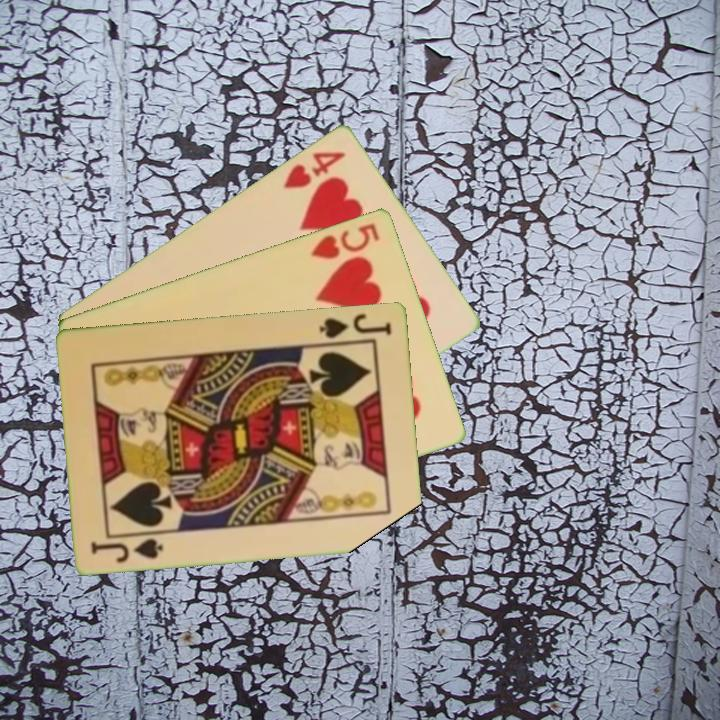4h: (280, 147, 349, 191)
5h: (307, 219, 383, 262)
Js: (88, 530, 166, 565), (316, 309, 395, 341)
